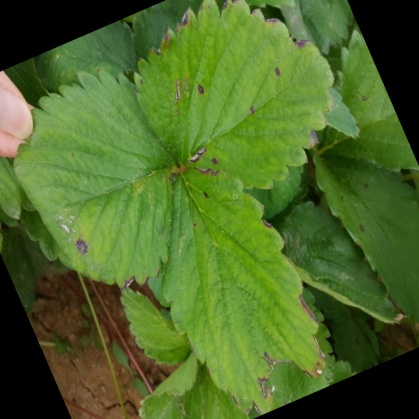Leaf_Spot: (177, 12, 377, 215), (123, 161, 267, 418), (45, 29, 195, 253), (317, 153, 410, 404), (317, 103, 418, 257)
